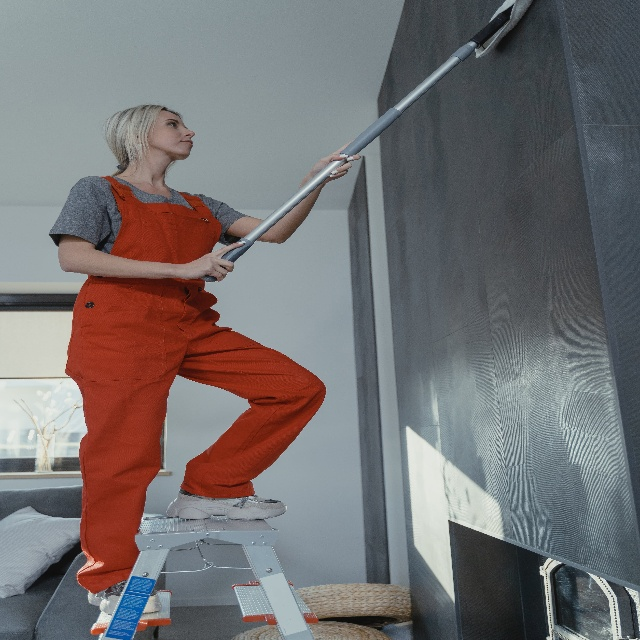Sin_guantes: (182, 239, 247, 283), (309, 138, 361, 177)
